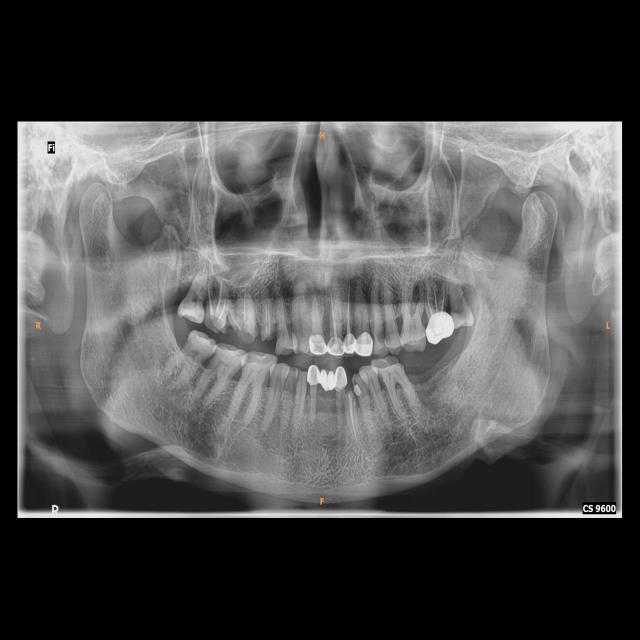dentin-curugu: (286, 320, 296, 347), (377, 329, 386, 346)
dolgu: (353, 382, 364, 401)
kanal-tedavisi: (208, 280, 231, 322), (324, 288, 339, 339), (424, 281, 445, 312), (344, 286, 356, 332), (240, 282, 250, 324), (348, 399, 358, 437), (264, 298, 272, 330)
kaplama: (425, 311, 455, 344), (332, 365, 348, 391), (308, 333, 327, 354), (357, 332, 375, 354), (342, 333, 358, 356), (328, 335, 345, 355), (308, 364, 320, 386)
kirik: (234, 321, 261, 343)
kopru: (320, 368, 337, 398)
